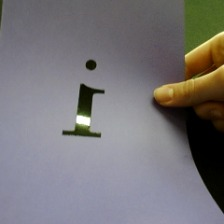violet1: (56, 55, 112, 146)
